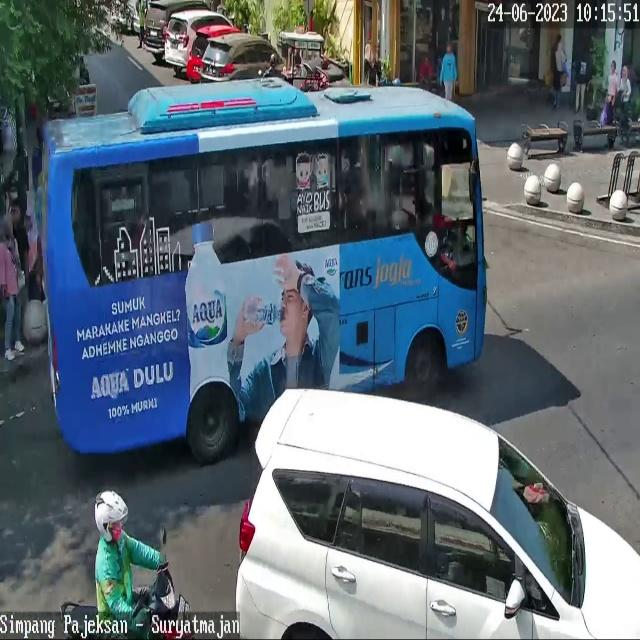bus: (58, 564, 197, 640)
car: (49, 84, 487, 464)
motorcycle: (235, 388, 640, 640), (201, 34, 287, 82), (164, 9, 233, 67), (144, 0, 212, 54), (186, 24, 242, 82)
